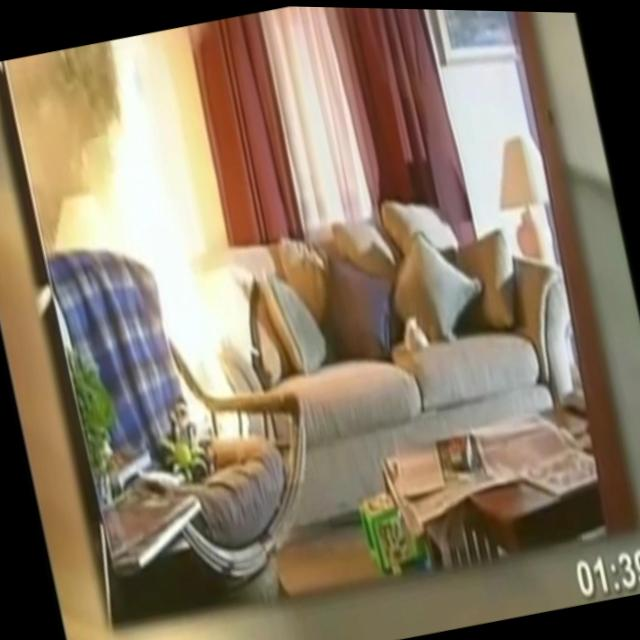fire: (84, 24, 264, 453)
